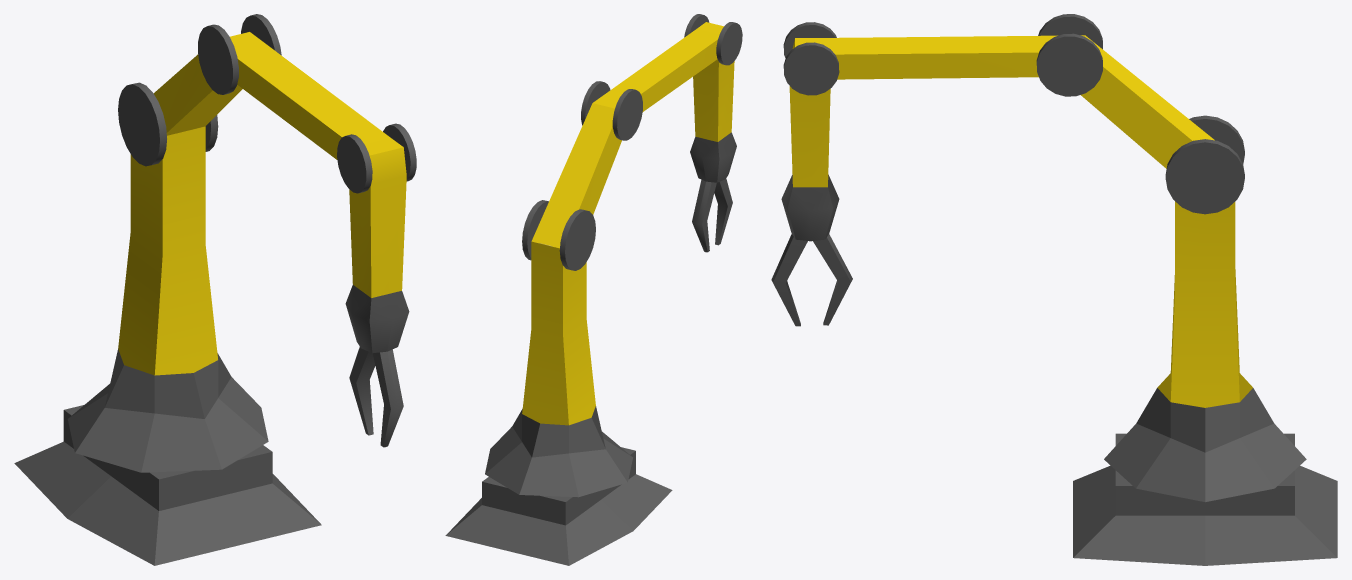
The model's file is MechanicalArm.fbx.
3 views of the same model, side by side, from view 1: azimuth 30°, elevation 25°; view 2: azimuth 150°, elevation 25°; view 3: azimuth 270°, elevation 25° (orthographic). The views are drawn at different scales.
Visible parts, largest first — view 1: mecharm; view 2: mecharm; view 3: mecharm.
Boxes of the visible parts, box(x1,y1,x2,y2) form: mecharm: box(14, 14, 416, 565); mecharm: box(445, 14, 742, 565); mecharm: box(771, 14, 1337, 565).
Bounding box in the file's own units: 1.66 × 4.13 × 4.29.
